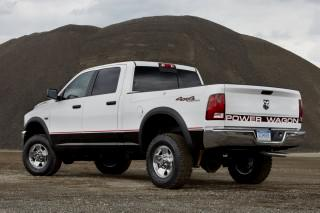ram: (261, 97, 273, 111)
